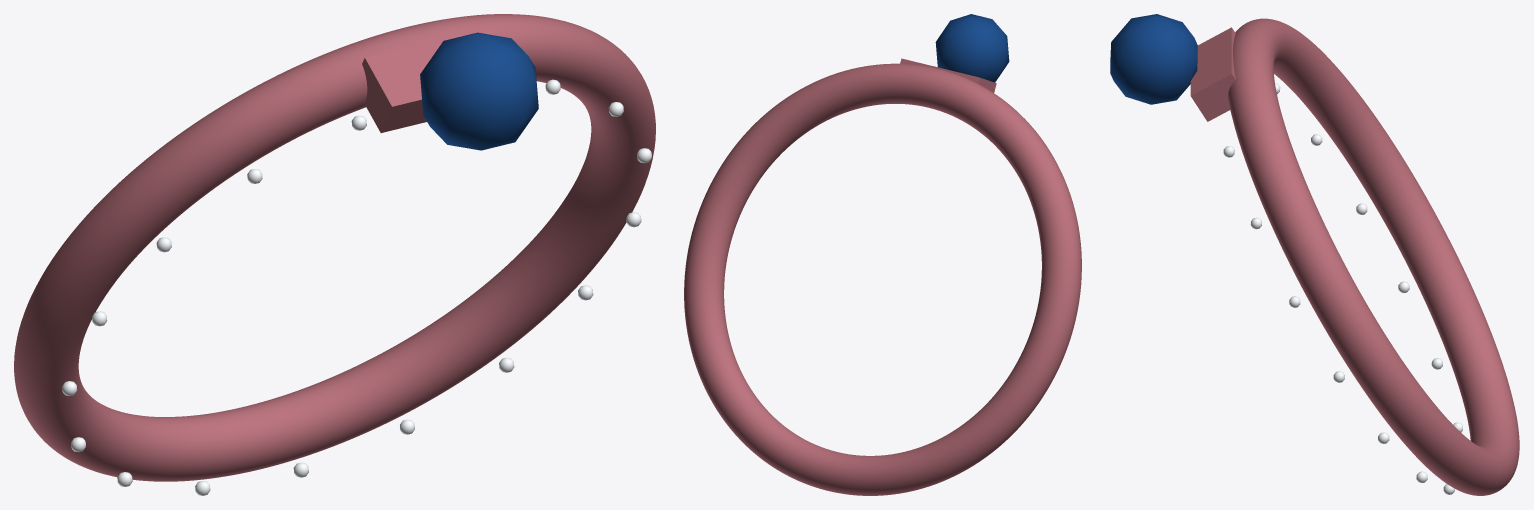
File: promise-rose-pair.glb
3 renders of one model, left to right at view 1: azimuth 30°, elevation 25°; view 2: azimuth 150°, elevation 25°; view 3: azimuth 270°, elevation 25°, orthographic. The views are drawn at different scales.
Visible parts, largest first — view 1: gold_band, hero_gemstone, gold_setting; view 2: gold_band, hero_gemstone, gold_setting; view 3: gold_band, hero_gemstone, gold_setting.
Boxes of the visible parts, left/top/right/bottom form: gold_band: left=14, top=14, right=655, bottom=481; hero_gemstone: left=420, top=32, right=538, bottom=150; gold_setting: left=362, top=27, right=495, bottom=132; gold_band: left=684, top=63, right=1081, bottom=495; hero_gemstone: left=935, top=14, right=1009, bottom=82; gold_setting: left=900, top=58, right=996, bottom=92; gold_band: left=1228, top=18, right=1519, bottom=495; hero_gemstone: left=1110, top=14, right=1197, bottom=104; gold_setting: left=1190, top=27, right=1235, bottom=121.
Size of the model in its own units: 2.22 by 2.08 by 1.71.
